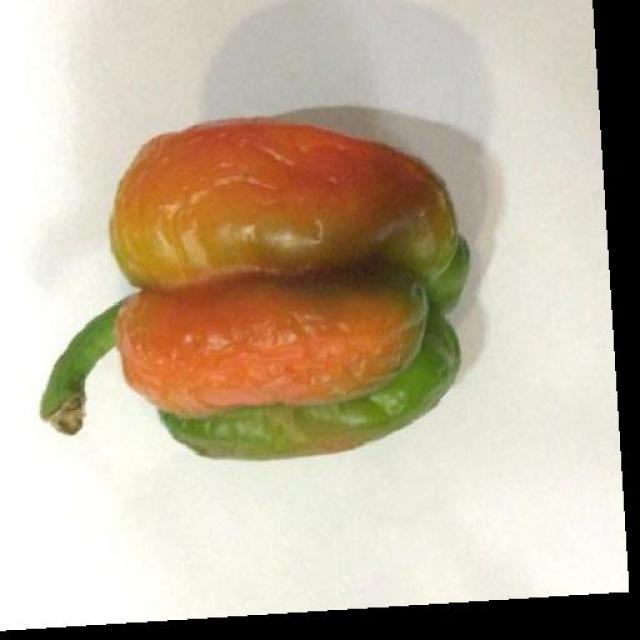Stale_Capsicum: (108, 106, 470, 437)
